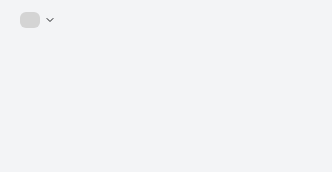
CountryCodeSelector › Chevron Animation › rotates chevron when dropdown is open
The image size is (332, 172).
Click the button.
click(38, 20)  # box 12,12 -> 64,28
(page scrolled)
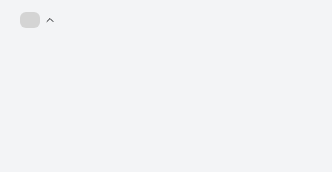
Check: the 1st icon has class "rotate-180", box 44,14 -> 56,26
